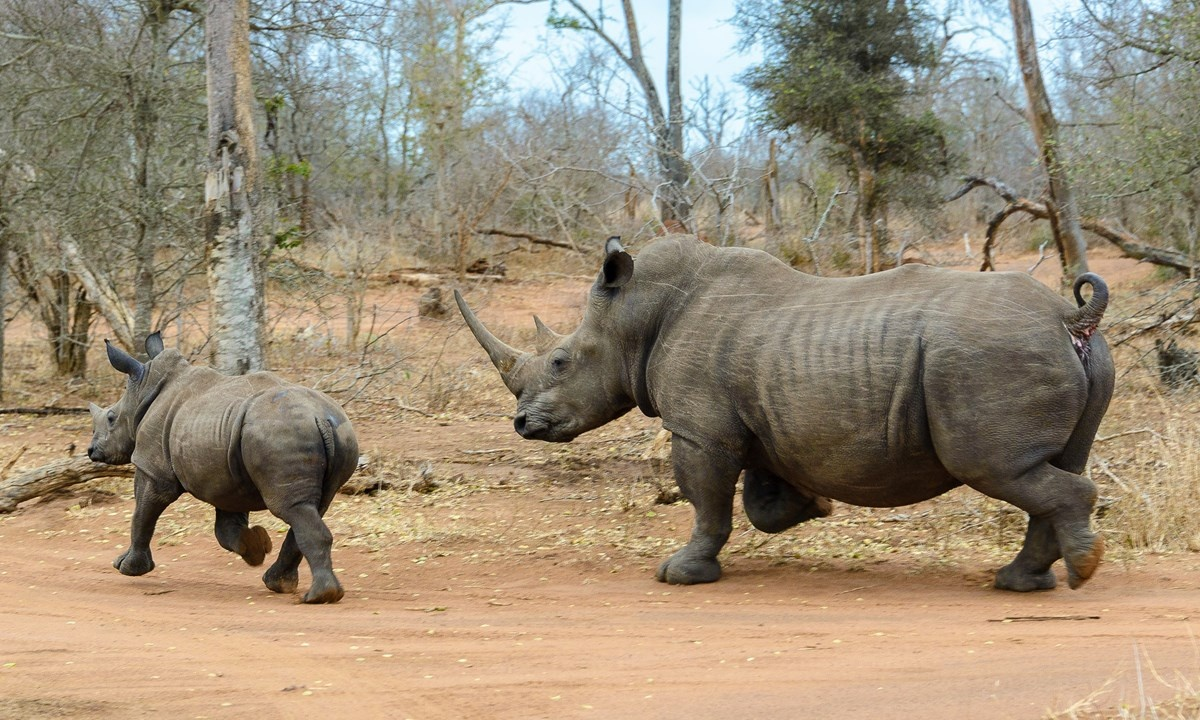rhino: (452, 229, 1112, 596), (85, 333, 358, 609)
